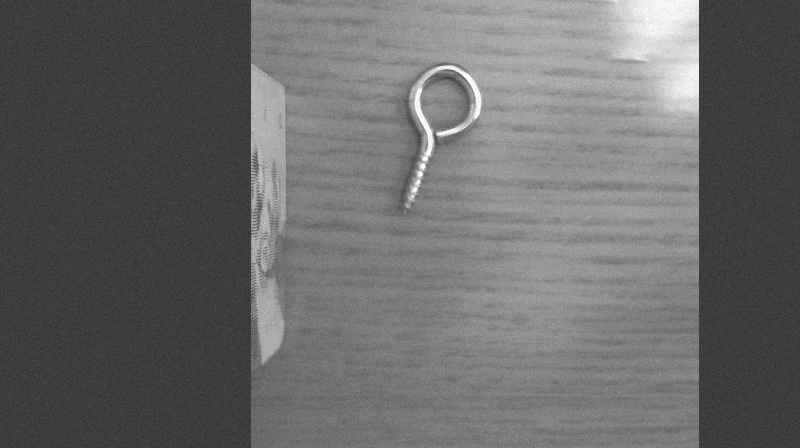O001: (386, 53, 486, 219)
